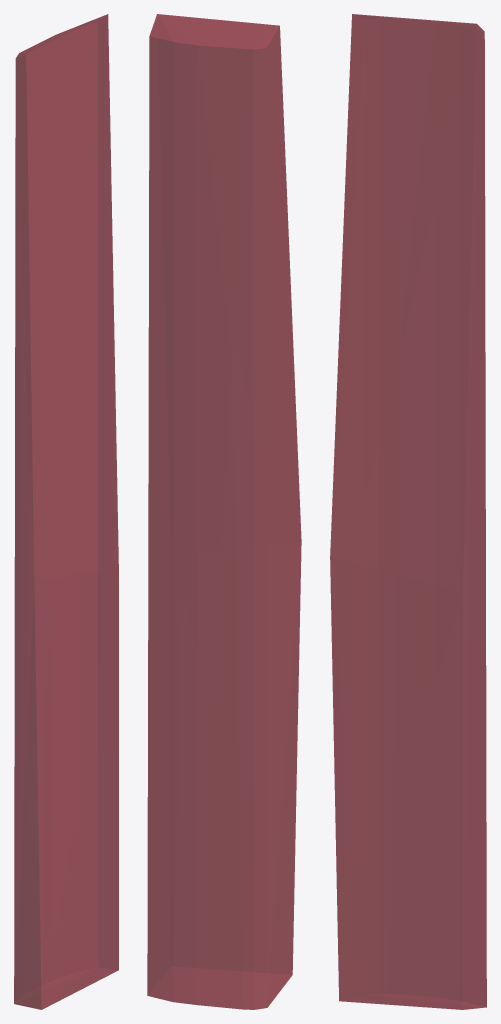
3 renders of one model, left to right at view 1: azimuth 30°, elevation 25°; view 2: azimuth 150°, elevation 25°; view 3: azimuth 330°, elevation 25°, orthographic. The views are drawn at different scales.
Parts seen in each view (by area): view 1: Shape_IndexedFaceSet.048_Shape_IndexedFaceSet.10451; view 2: Shape_IndexedFaceSet.048_Shape_IndexedFaceSet.10451; view 3: Shape_IndexedFaceSet.048_Shape_IndexedFaceSet.10451.
Part boxes in pixels (x1,y1,x2,y2): Shape_IndexedFaceSet.048_Shape_IndexedFaceSet.10451: (14,14,118,1009); Shape_IndexedFaceSet.048_Shape_IndexedFaceSet.10451: (147,14,301,1009); Shape_IndexedFaceSet.048_Shape_IndexedFaceSet.10451: (330,14,486,1009).
Size of the model in its own units: 0.1342 by 1.14 by 0.0945.
